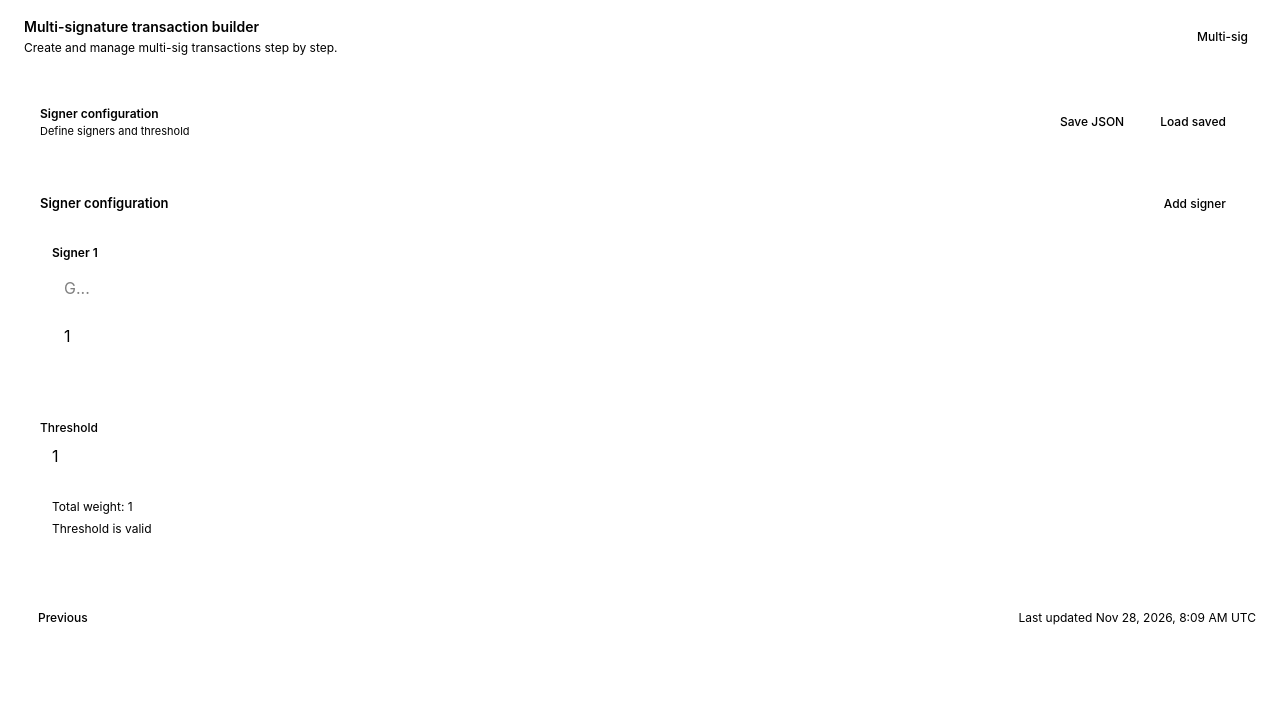
Test: MultiSigTransactionBuilder › handles corrupt JSON in localStorage without crashing, clears storage and shows warning toast
Click the button "Load saved" at (1193, 122), box [1146, 106, 1240, 138]
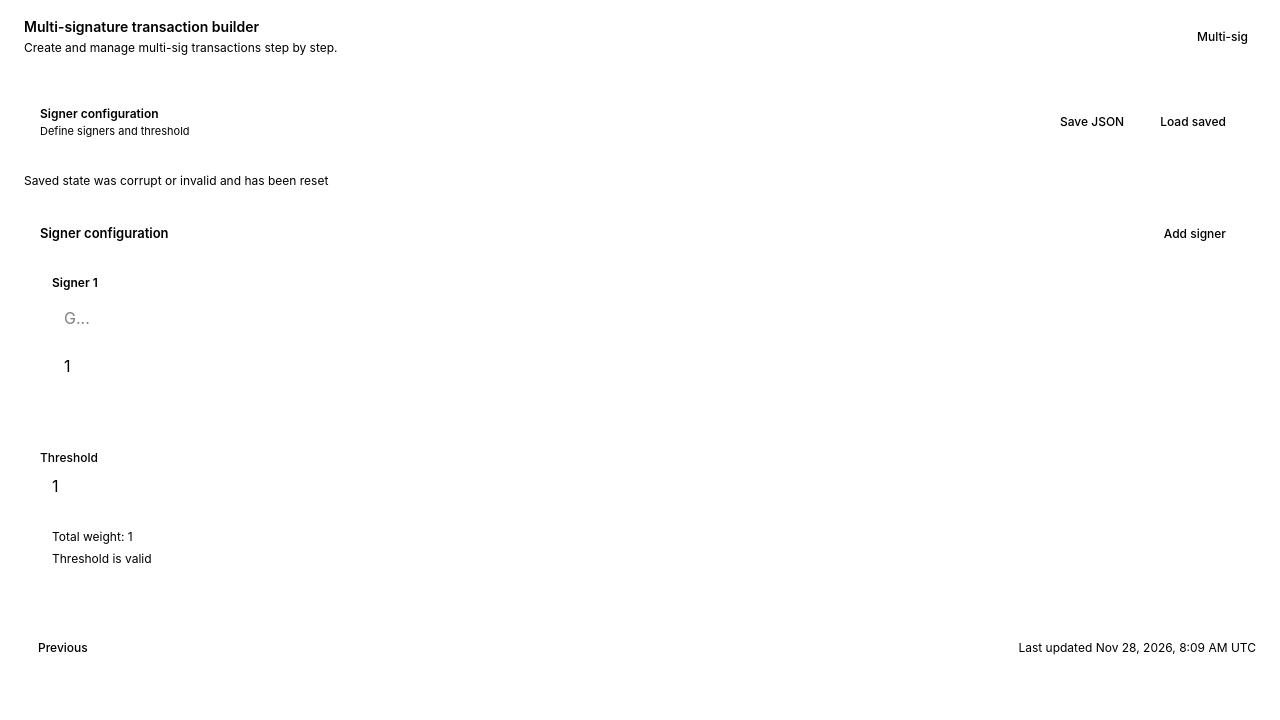
Now the text "Saved state was corrupt or invalid and has been reset" is shown, box [24, 172, 328, 188]
